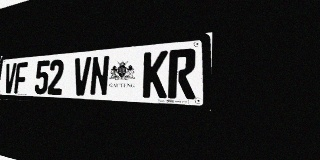2: (47, 59, 64, 95)
5: (34, 60, 50, 94)
F: (14, 62, 28, 94)
K: (142, 50, 168, 98)
N: (89, 55, 110, 96)
R: (168, 48, 196, 99)
V: (72, 57, 91, 96), (3, 63, 17, 93)
